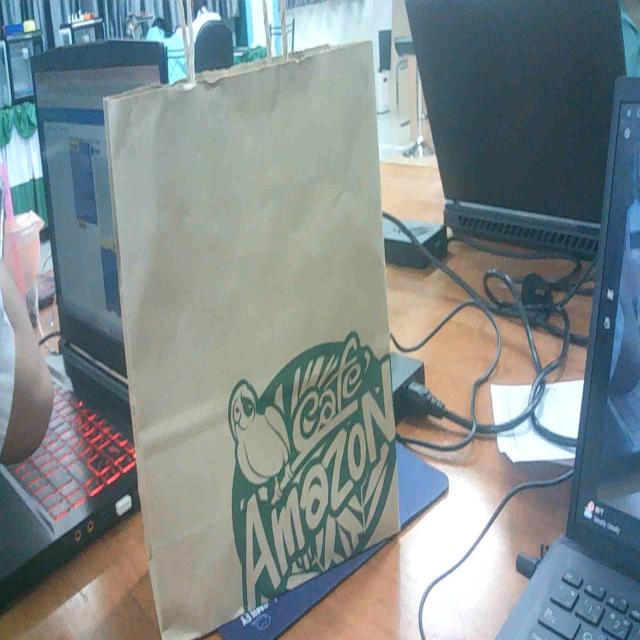bag: (85, 42, 423, 615)
